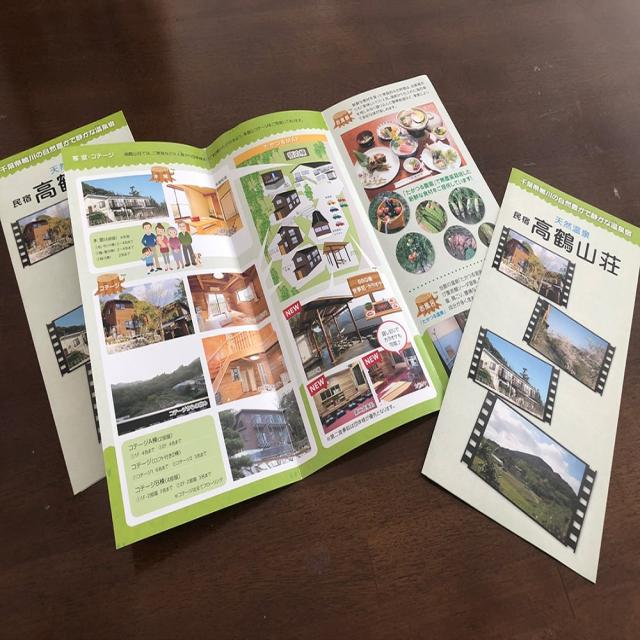paper: (0, 71, 463, 545), (429, 135, 640, 584)
